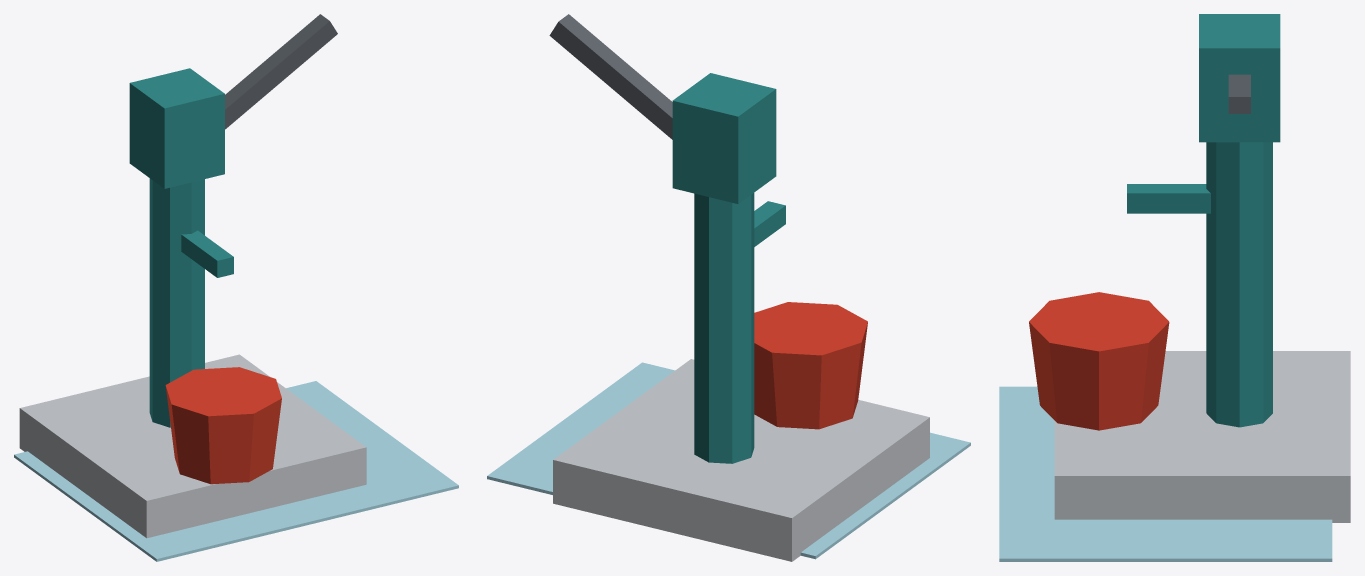
Rendered from pump.glb.
3 renders of one model, left to right at view 1: azimuth 30°, elevation 25°; view 2: azimuth 150°, elevation 25°; view 3: azimuth 270°, elevation 25°, orthographic. The views are drawn at different scales.
Parts seen in each view (by area): view 1: pump; view 2: pump; view 3: pump.
Part boxes in pixels (box(x1,y1,x2,y2)): pump: box(14, 14, 458, 561); pump: box(487, 14, 970, 561); pump: box(999, 14, 1350, 561).
Size of the model in its own units: 1.1 by 1.4 by 0.95.
1 material, 1 textured.
